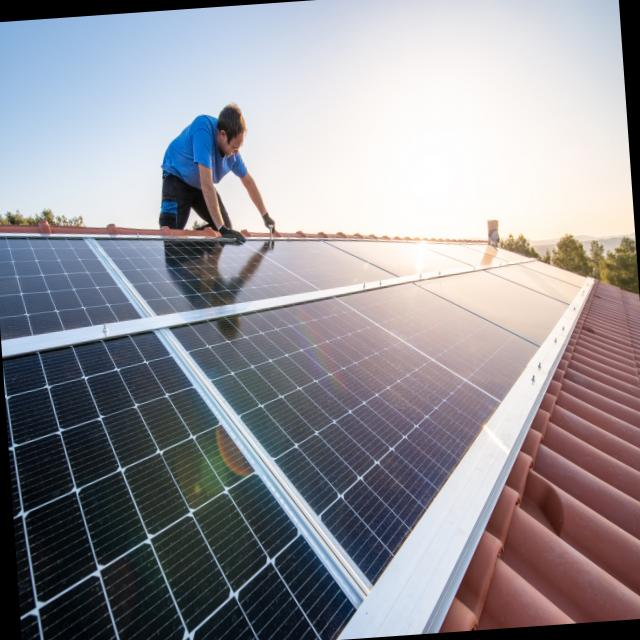no faulty: (0, 238, 566, 640)
